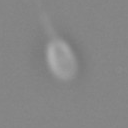normal: (28, 1, 58, 41)
